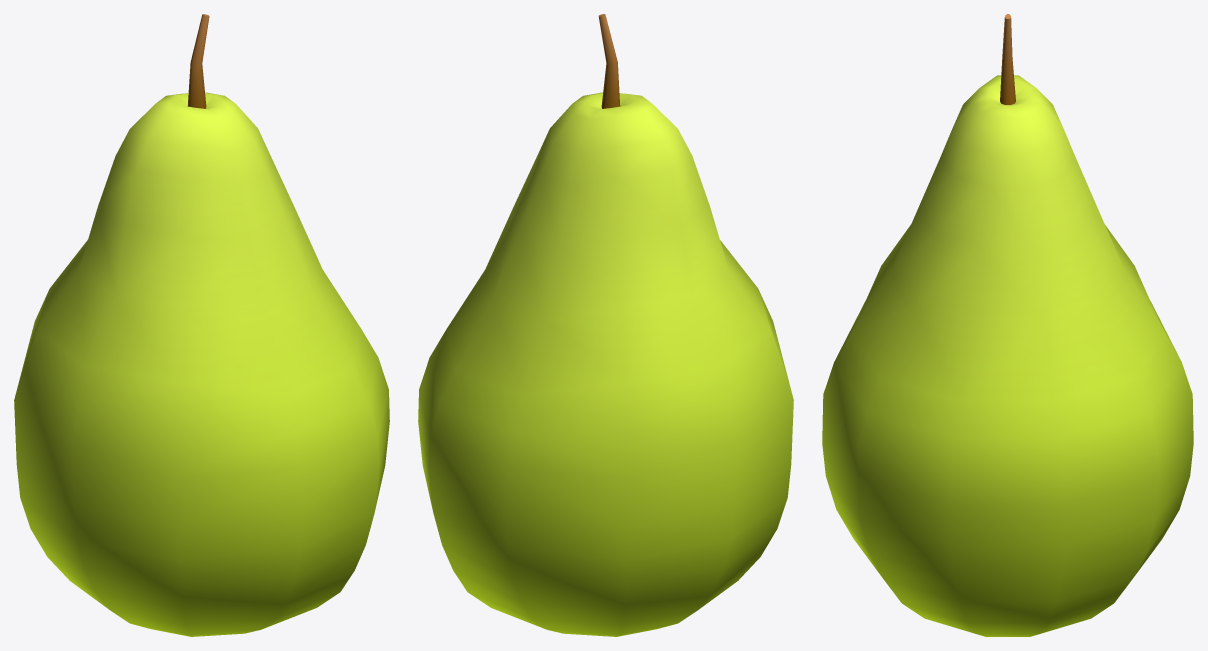
File: pear.fbx
The picture shows the model from 3 angles, left to right: view 1: azimuth 30°, elevation 25°; view 2: azimuth 150°, elevation 25°; view 3: azimuth 270°, elevation 25°; orthographic projection.
Parts seen in each view (by area): view 1: pear; view 2: pear; view 3: pear.
Part boxes in pixels (x1,y1,x2,y2): pear: [14, 14, 389, 636]; pear: [418, 14, 793, 636]; pear: [822, 14, 1193, 636].
Bounding box in the file's own units: 73.92 × 135 × 76.13.
